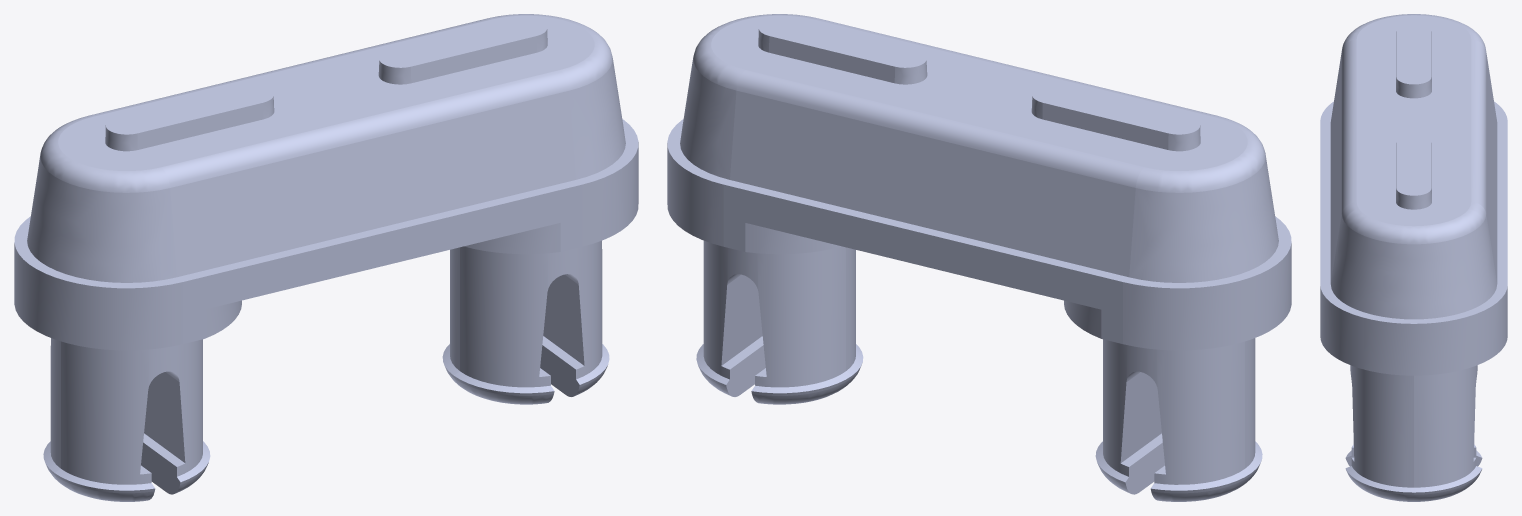
The model's file is Traction Link (228-2500-239).glb.
3 views of the same model, side by side, from view 1: azimuth 30°, elevation 25°; view 2: azimuth 150°, elevation 25°; view 3: azimuth 270°, elevation 25° (orthographic). The views are drawn at different scales.
Visible parts, largest first — view 1: Traction Link (228-2500-239); view 2: Traction Link (228-2500-239); view 3: Traction Link (228-2500-239).
Boxes of the visible parts, bbox=[...] form: Traction Link (228-2500-239): bbox=[14, 14, 638, 501]; Traction Link (228-2500-239): bbox=[667, 14, 1291, 501]; Traction Link (228-2500-239): bbox=[1320, 14, 1507, 501].
Bounding box in the file's own units: 0.7441 × 0.4189 × 0.2441.
